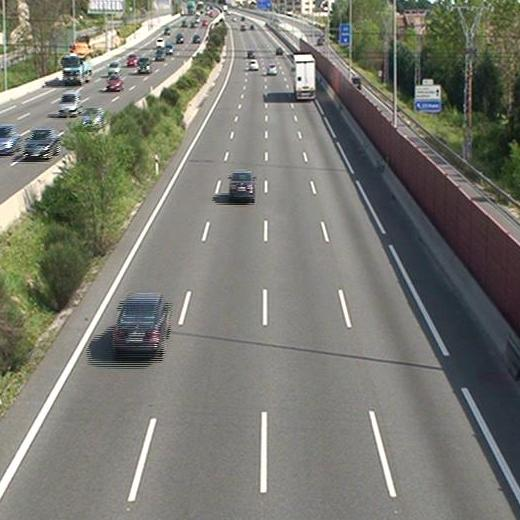car: (111, 295, 171, 356), (228, 171, 256, 203), (248, 58, 259, 72), (266, 63, 277, 76)
truck: (289, 56, 314, 100)
